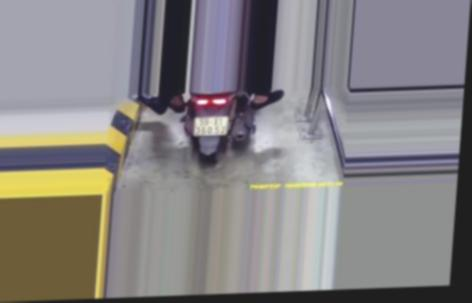License_Plate: (189, 111, 231, 139)
